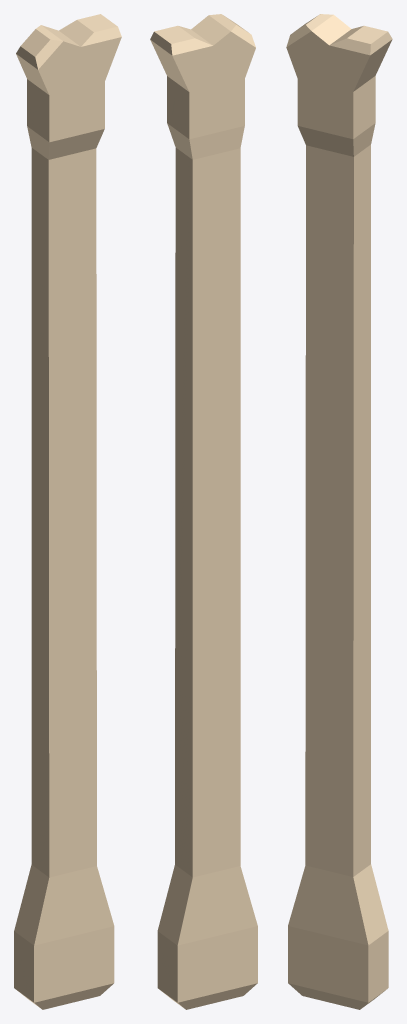
Rendered from Radius.fbx.
The picture shows the model from 3 angles, left to right: view 1: azimuth 30°, elevation 25°; view 2: azimuth 210°, elevation 25°; view 3: azimuth 330°, elevation 25°; orthographic projection.
Parts seen in each view (by area): view 1: Radius; view 2: Radius; view 3: Radius.
Boxes of the visible parts, <box> form: Radius: <box>14,14,121,1009</box>; Radius: <box>150,14,257,1009</box>; Radius: <box>286,14,392,1009</box>.
Size of the model in its own units: 65.49 by 715 by 30.53.
